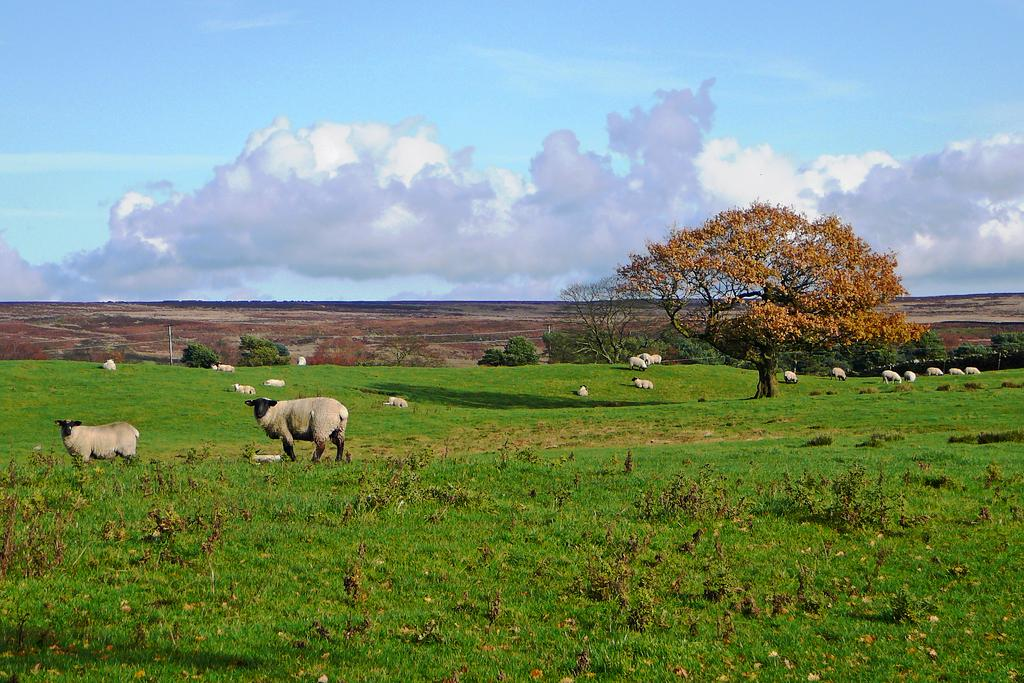Sheep: (246, 394, 346, 462), (56, 419, 139, 468), (625, 356, 649, 372), (630, 377, 656, 389), (880, 371, 902, 384), (384, 397, 408, 406), (236, 383, 256, 393), (212, 364, 234, 373), (833, 368, 846, 383), (106, 358, 119, 370), (926, 367, 945, 375), (266, 378, 286, 384), (578, 386, 590, 396), (786, 373, 798, 383), (948, 368, 964, 374), (654, 357, 662, 368), (906, 369, 914, 379), (644, 353, 653, 360), (968, 368, 980, 373)
